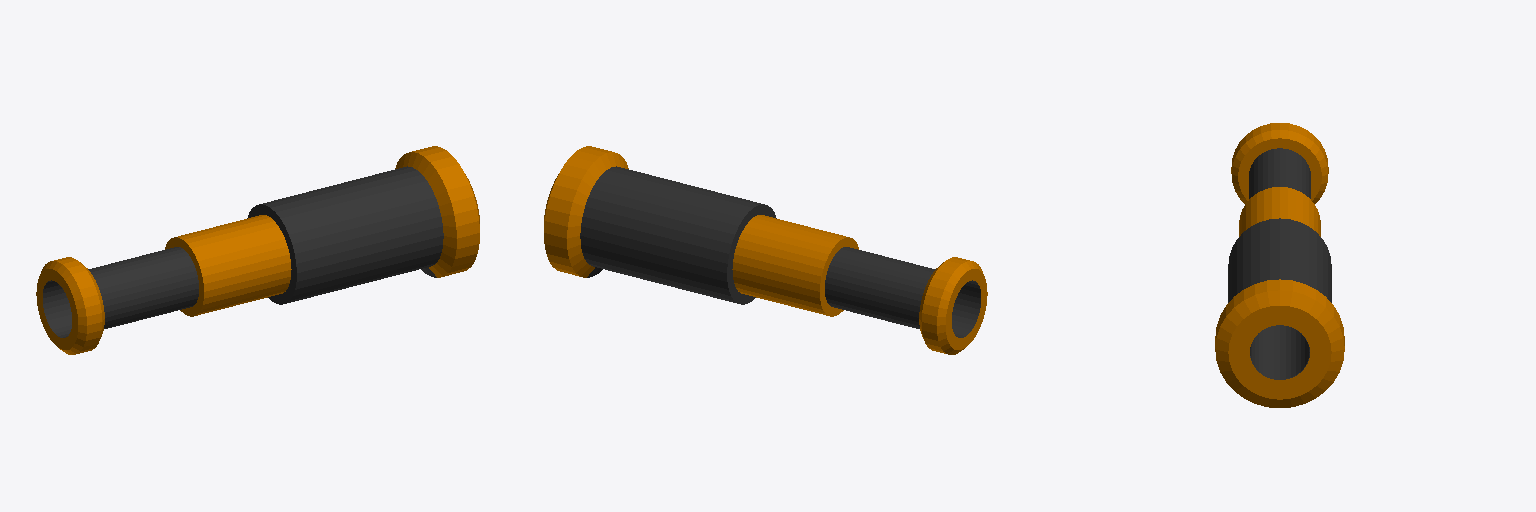
The model's file is Telescope.obj.
3 renders of one model, left to right at view 1: azimuth 30°, elevation 25°; view 2: azimuth 150°, elevation 25°; view 3: azimuth 270°, elevation 25°, orthographic.
Visible parts, largest first — view 1: Telescope; view 2: Telescope; view 3: Telescope.
Part boxes in pixels (x1,y1,x2,y2): Telescope: (36,146,479,354); Telescope: (544,146,987,354); Telescope: (1215,123,1344,407).
Size of the model in its own units: 3.52 by 0.9954 by 0.9929.